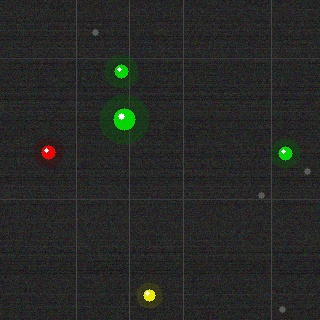green_normal: (111, 106, 137, 132), (276, 144, 294, 162), (112, 62, 130, 80)
red_fault: (39, 143, 57, 161)
yellow_warning: (141, 287, 157, 303)
